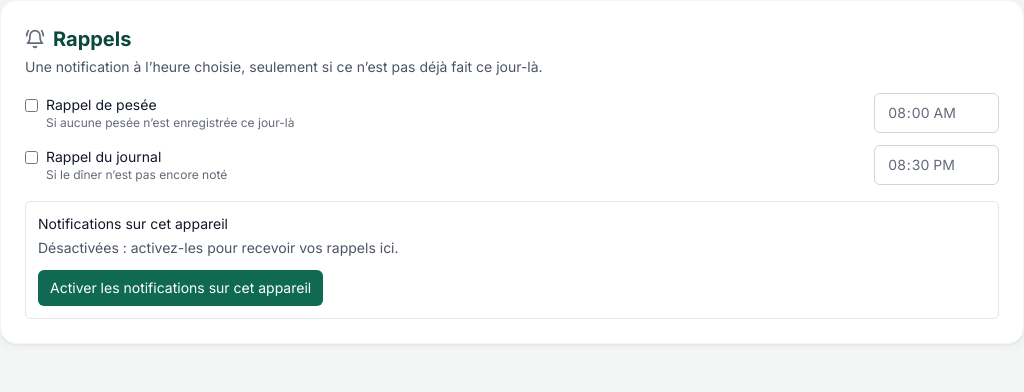
Test: RemindersSection › programme les rappels à l'activation et l'annonce
This screenshot has width=1024, height=392.
Click the button "Activer les notifications sur cet appareil" at (181, 288), box [38,270,323,306]
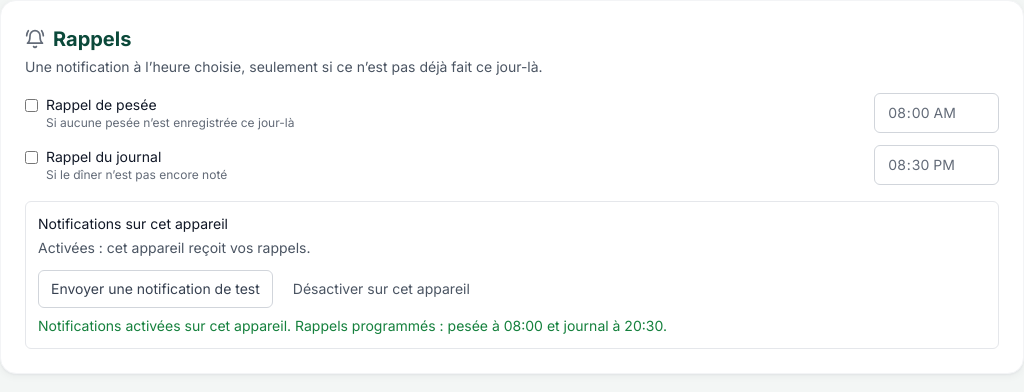
Expected: the message shows "Notifications activées sur cet appareil. Rappels programmés : pesée à 08:00 et journal à 20:30.", [38,317,667,334]
